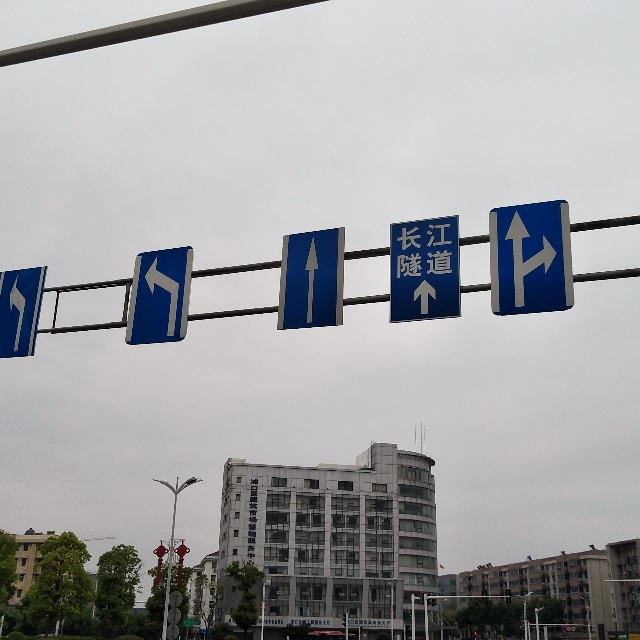left: (126, 247, 192, 348), (2, 269, 48, 361)
straight: (277, 222, 349, 334)
